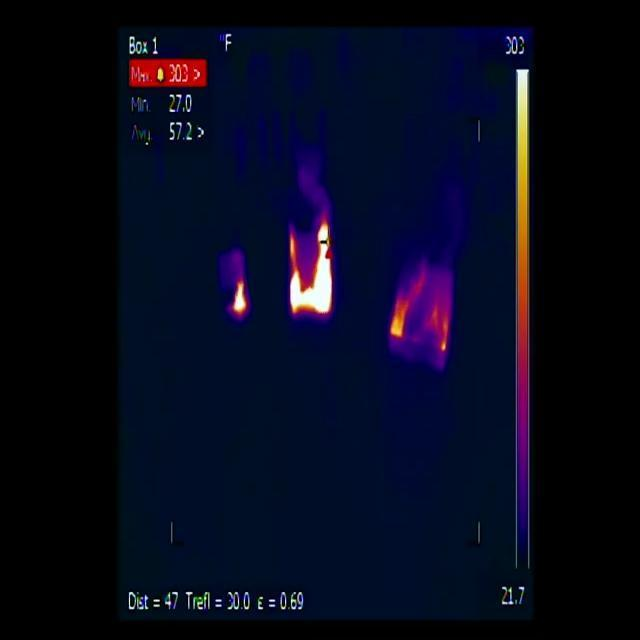fire: (290, 216, 337, 320), (392, 283, 451, 360), (233, 279, 249, 320)
